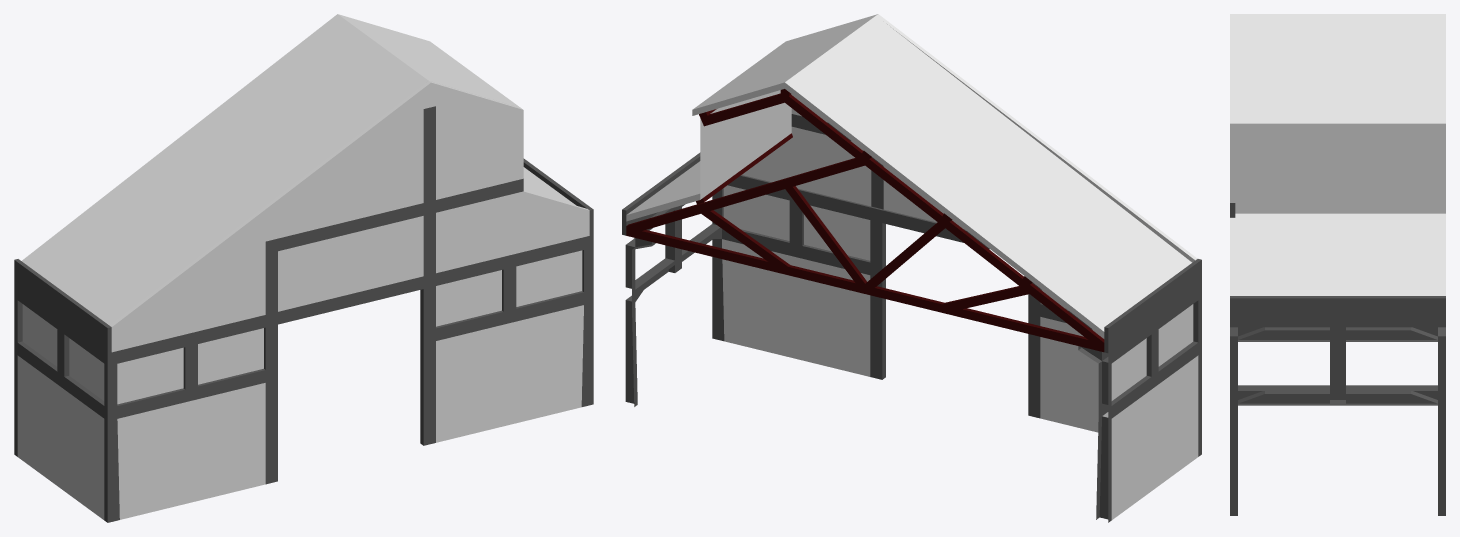
The model's file is SM_Factory_I.fbx.
The picture shows the model from 3 angles, left to right: view 1: azimuth 30°, elevation 25°; view 2: azimuth 150°, elevation 25°; view 3: azimuth 270°, elevation 25°; orthographic projection. The views are drawn at different scales.
Visible parts, largest first — view 1: Factory_Frame_I, Factory_PillarsAndBeams_I; view 2: Factory_Frame_I, Factory_PillarsAndBeams_I; view 3: Factory_Frame_I, Factory_PillarsAndBeams_I.
Boxes of the visible parts, x1,y1,x2,y2 form: Factory_Frame_I: [14, 14, 593, 353]; Factory_PillarsAndBeams_I: [14, 235, 593, 522]; Factory_Frame_I: [622, 14, 1201, 353]; Factory_PillarsAndBeams_I: [625, 175, 1201, 522]; Factory_Frame_I: [1230, 14, 1445, 327]; Factory_PillarsAndBeams_I: [1230, 327, 1445, 515].
Size of the model in its own units: 12 by 4 by 8.53.
